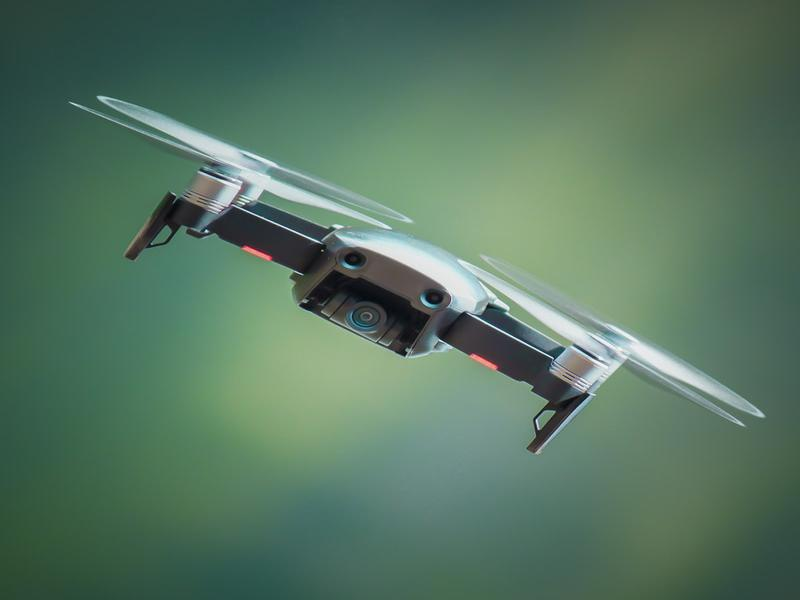enemy: (124, 122, 624, 454)
